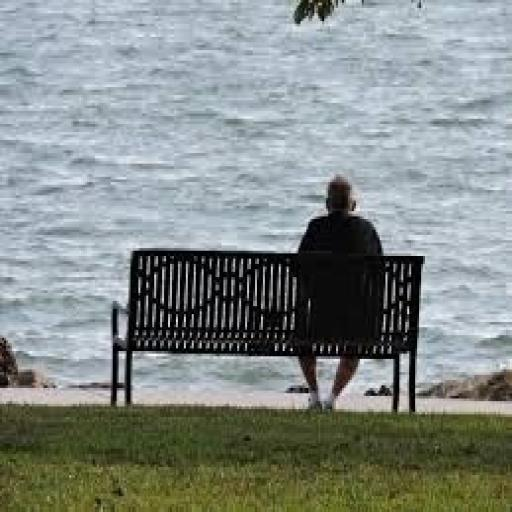sitting: (286, 169, 386, 412)
